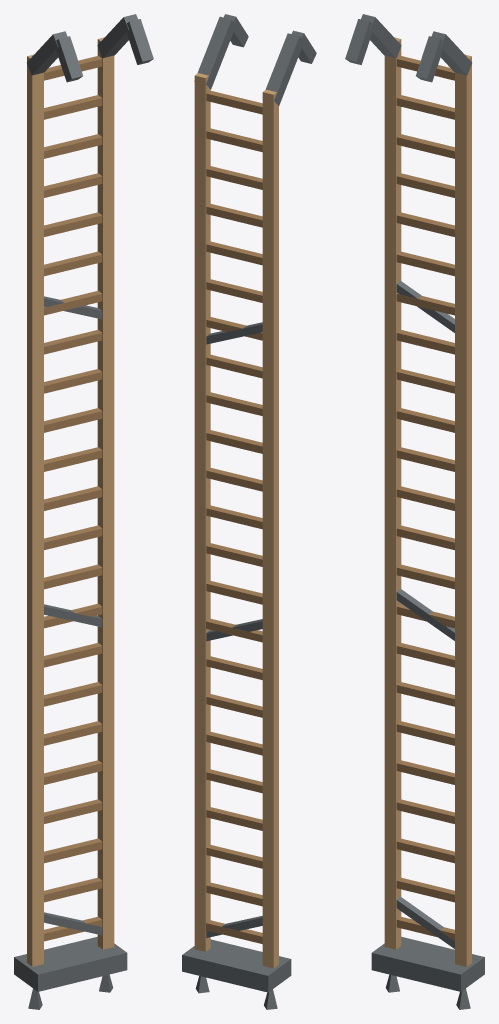
Rendered from hooked-scaling-ladder-long.glb.
The picture shows the model from 3 angles, left to right: view 1: azimuth 30°, elevation 25°; view 2: azimuth 150°, elevation 25°; view 3: azimuth 330°, elevation 25°; orthographic projection. The views are drawn at different scales.
Visible parts, largest first — view 1: hooked-scaling-ladder-long; view 2: hooked-scaling-ladder-long; view 3: hooked-scaling-ladder-long.
Boxes of the visible parts, x1,y1,x2,y2 form: hooked-scaling-ladder-long: (14, 14, 153, 1009); hooked-scaling-ladder-long: (182, 14, 316, 1009); hooked-scaling-ladder-long: (345, 14, 484, 1009).
Bounding box in the file's own units: 0.8597 × 9.12 × 0.9031.
